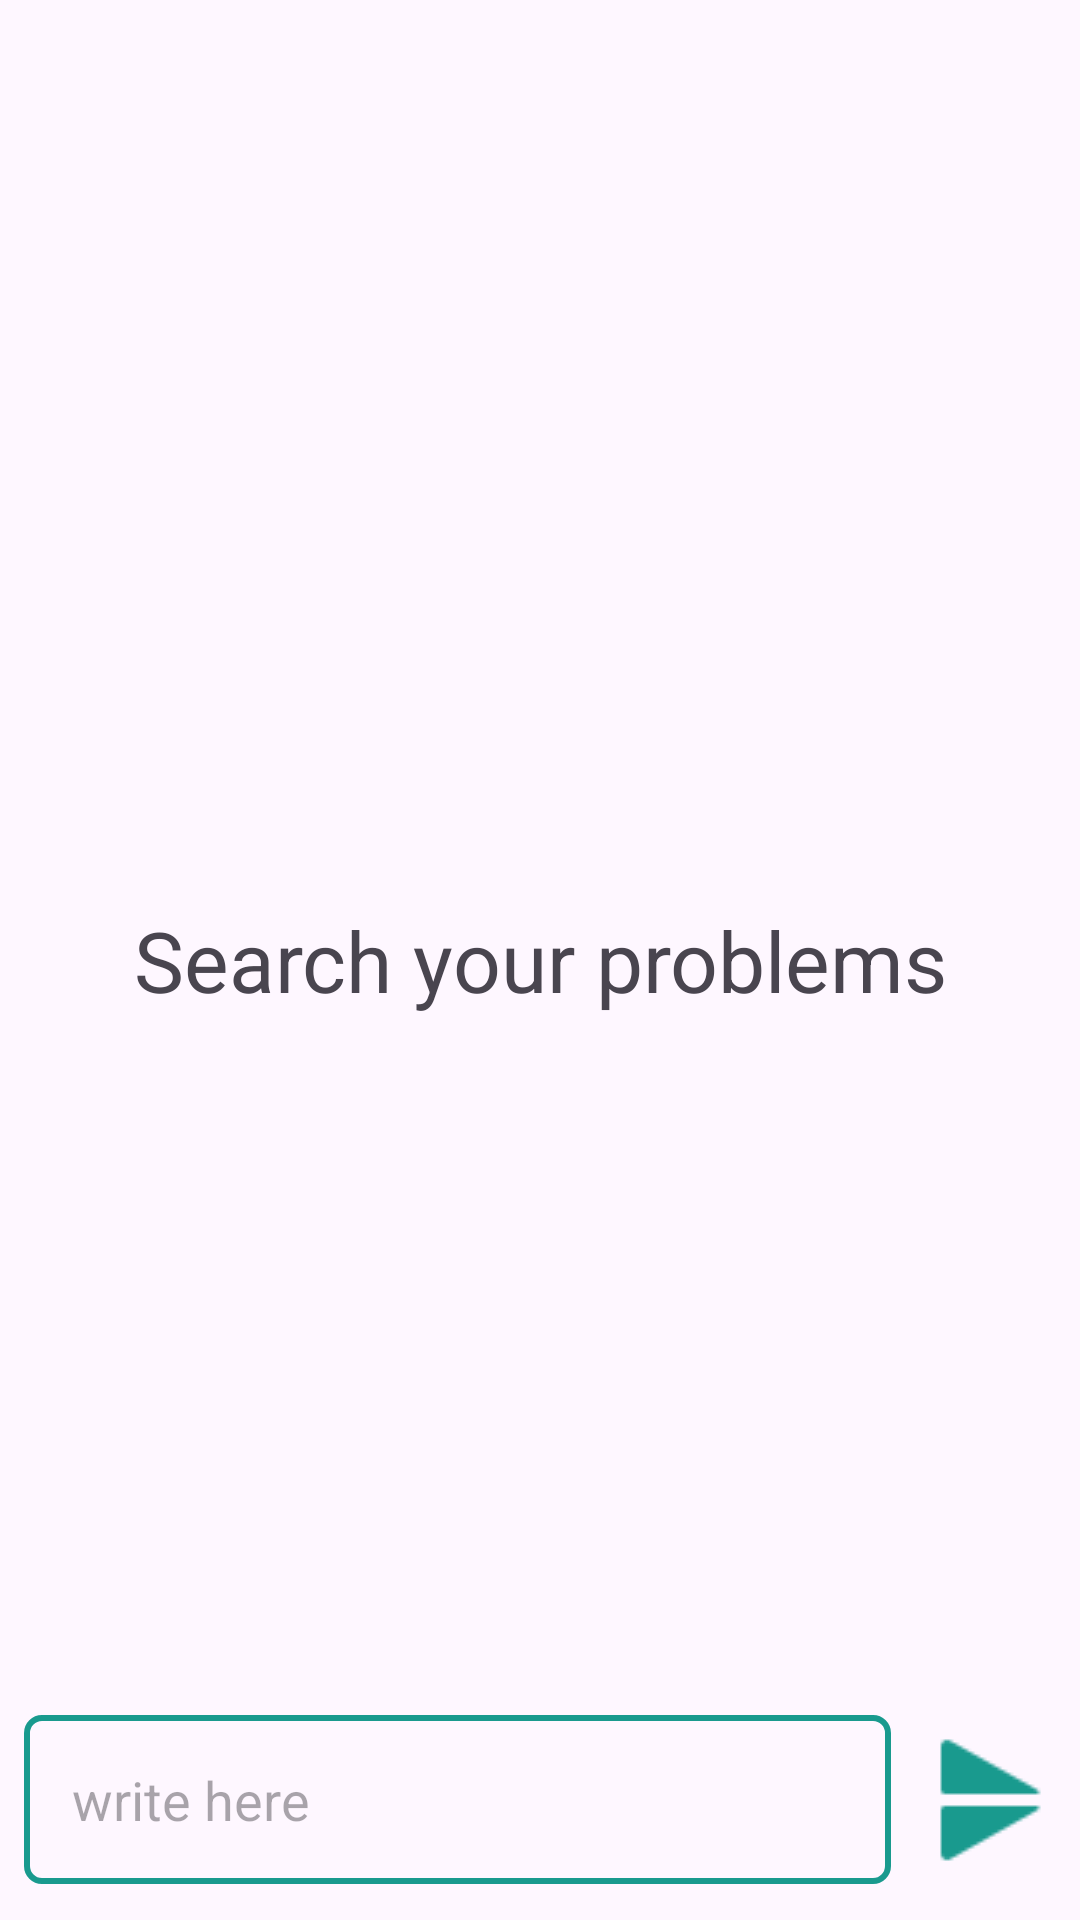

Named icons in this screenshot (1080×1920) and their centers, [x,y]:
send: [990,1800]
